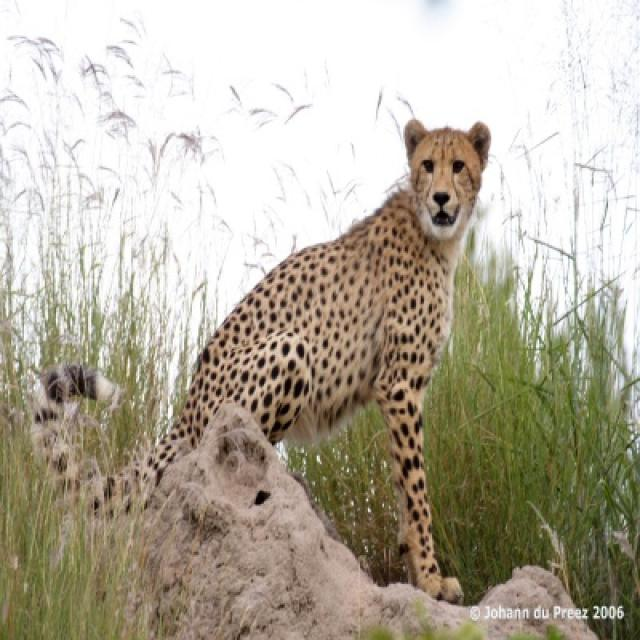Cheetah: (88, 120, 488, 603), (34, 363, 118, 486)
